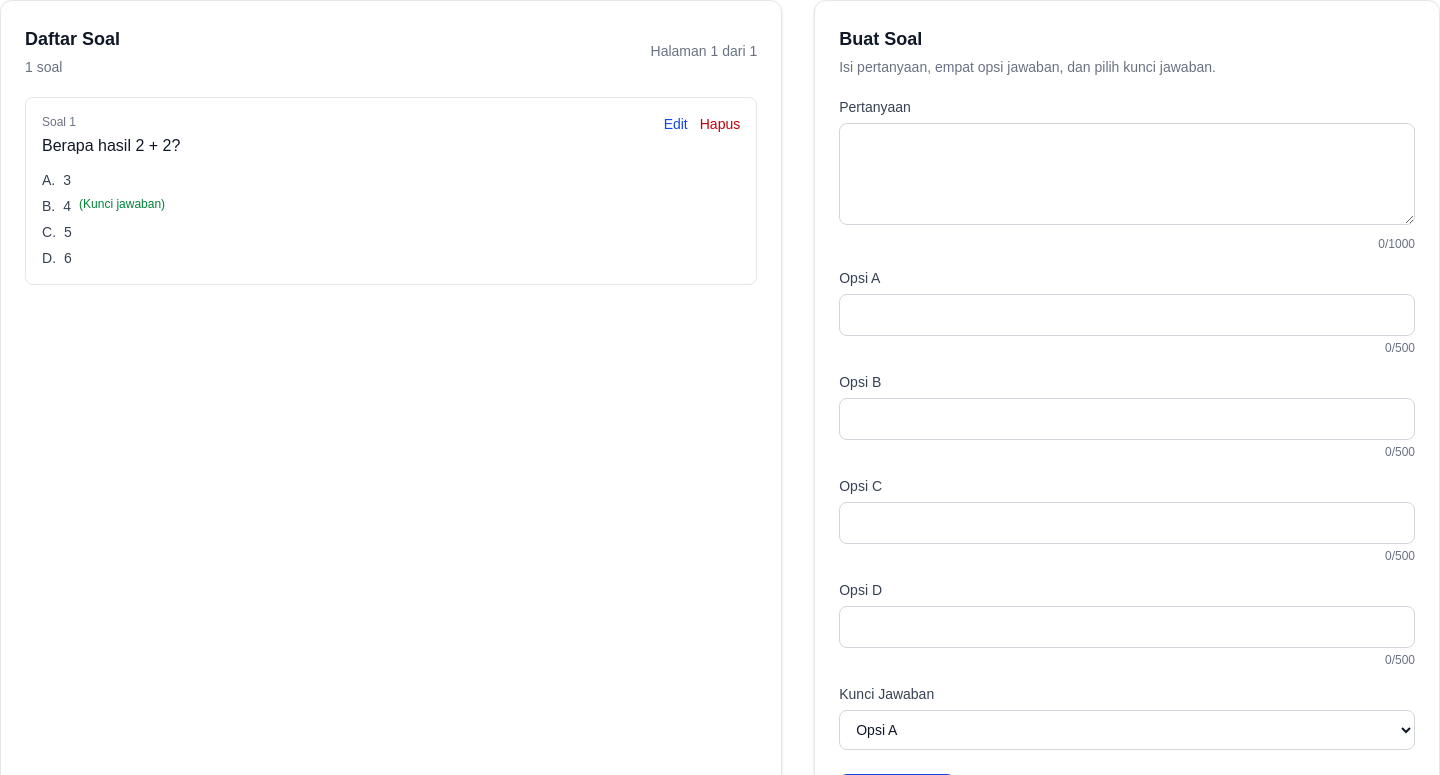
Test: QuestionBank › keeps the question and displays the API error when deletion is rejected
This screenshot has width=1440, height=775.
What coordinates should you click on to do the following:
click the button "Hapus"
I would click on:
 (720, 124)
Its box is left=700, top=114, right=740, bottom=134.
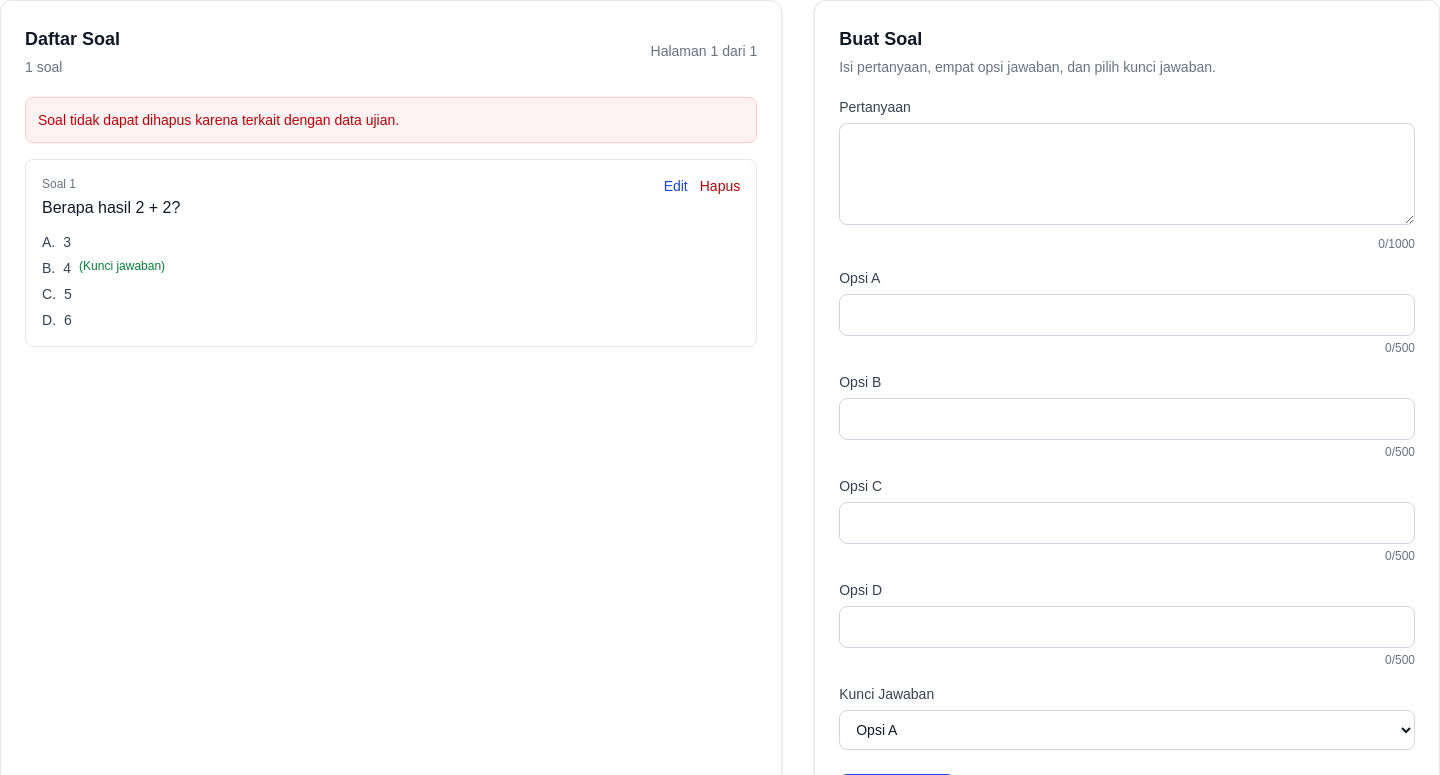
Expected: the text "Berapa hasil 2 + 2?" is shown, left=42, top=196, right=180, bottom=220
Result: the message reads "Soal tidak dapat dihapus karena terkait dengan data ujian." at left=38, top=112, right=399, bottom=128
